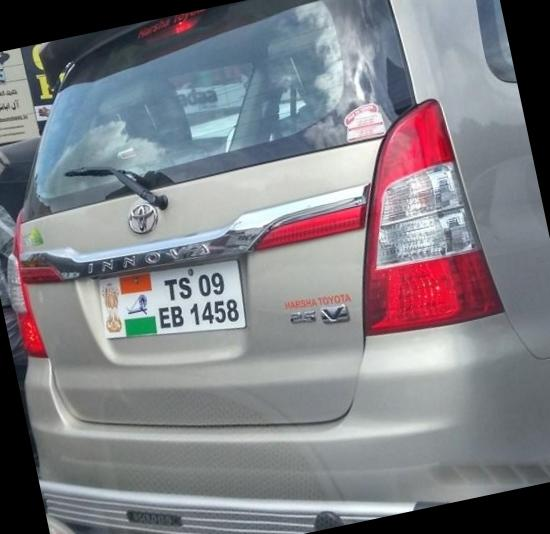plate: (93, 229, 258, 370)
